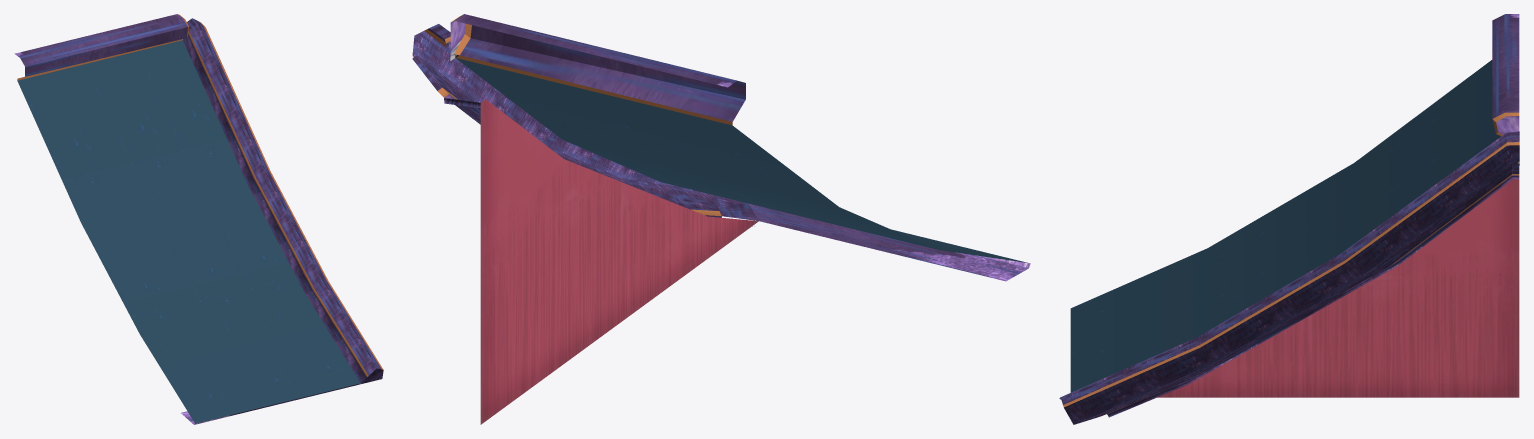
Rendered from pm-temple-roof-02-corner.glb.
The picture shows the model from 3 angles, left to right: view 1: azimuth 30°, elevation 25°; view 2: azimuth 150°, elevation 25°; view 3: azimuth 270°, elevation 25°; orthographic projection. The views are drawn at different scales.
Parts seen in each view (by area): view 1: TempleRoof02Corner_Art; view 2: TempleRoof02Corner_Art; view 3: TempleRoof02Corner_Art.
Boxes of the visible parts, left/top/right/bottom form: TempleRoof02Corner_Art: left=14, top=14, right=383, bottom=424; TempleRoof02Corner_Art: left=412, top=14, right=1030, bottom=424; TempleRoof02Corner_Art: left=1059, top=14, right=1519, bottom=424.
Bounding box in the file's own units: 8.44 × 10.41 × 14.41.
4 materials, 4 textured.
